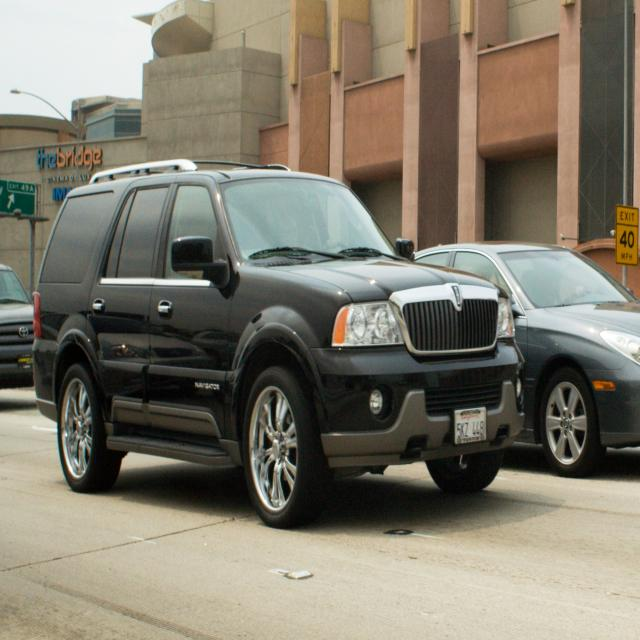Car: (34, 161, 524, 526), (415, 243, 639, 476), (0, 265, 33, 388)
